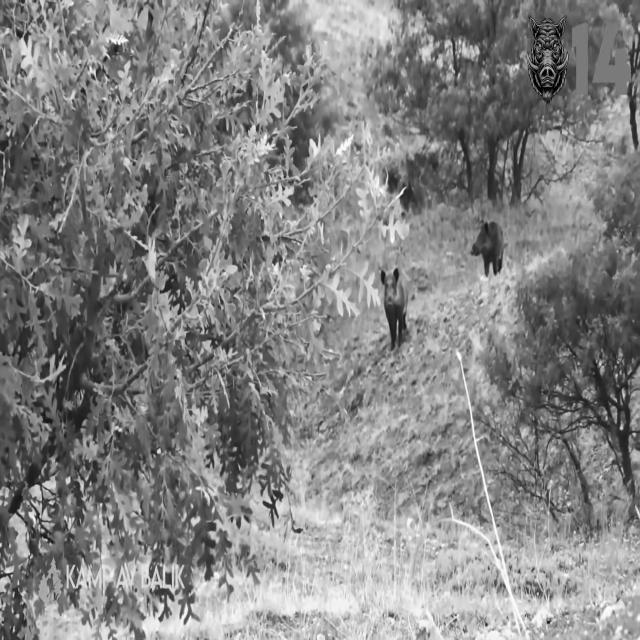boar: (381, 267, 408, 348), (471, 220, 503, 276)
